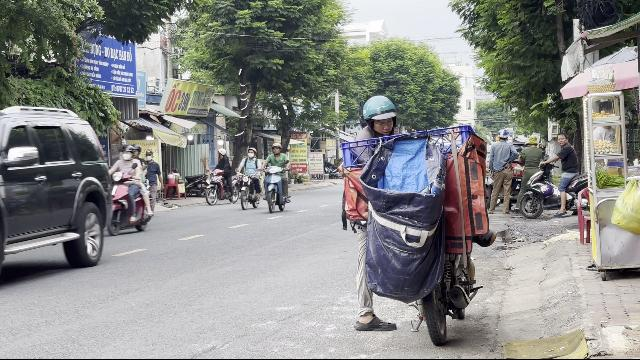helmet: (121, 144, 135, 160)
motorcyclist: (106, 144, 154, 236)
